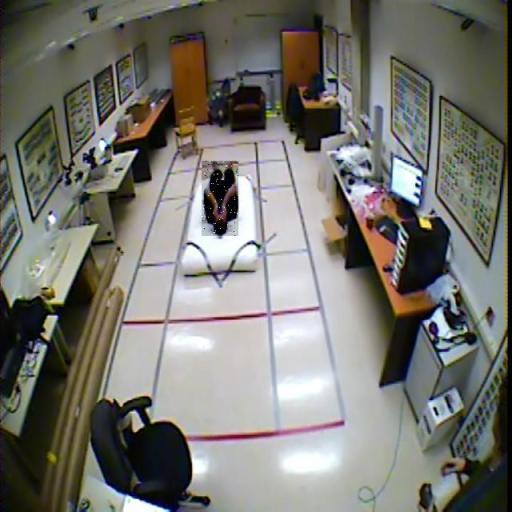Fall: (203, 162, 240, 239)
